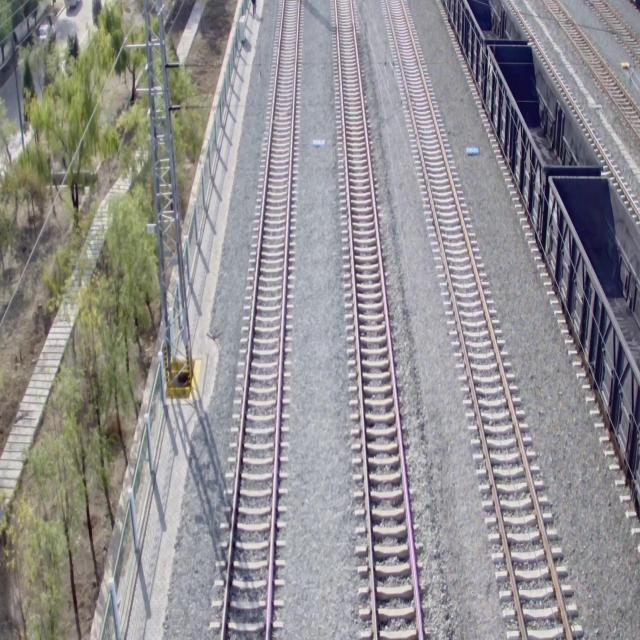gondola: (542, 166, 640, 472), (481, 41, 609, 246), (440, 0, 530, 95)
